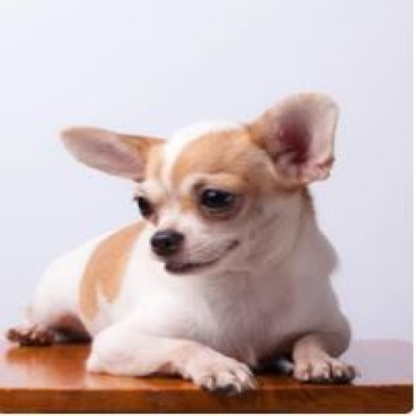chihuahua: (5, 89, 364, 399)
